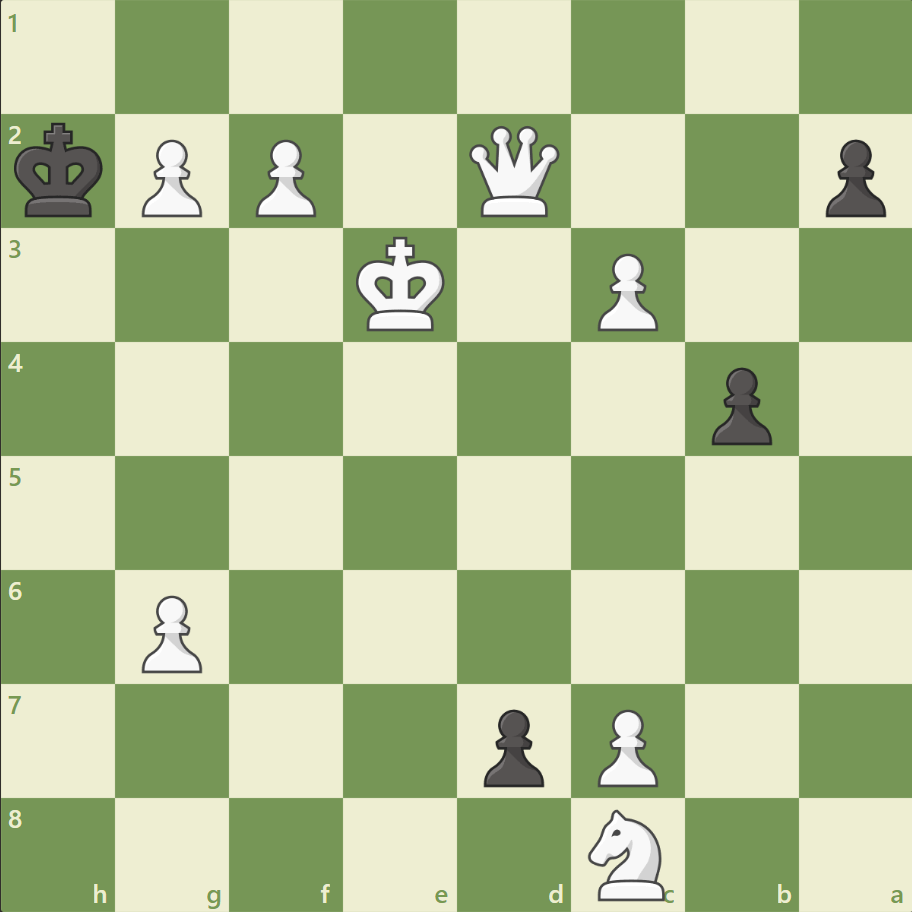K: (351, 231, 451, 339)
N: (579, 802, 676, 904)
P: (133, 586, 208, 677), (247, 132, 322, 223), (133, 132, 208, 223), (588, 700, 662, 791), (588, 246, 662, 337)
Q: (464, 122, 563, 222)
k: (11, 117, 111, 225)
p: (474, 700, 549, 791), (701, 359, 776, 450), (815, 132, 889, 223)
